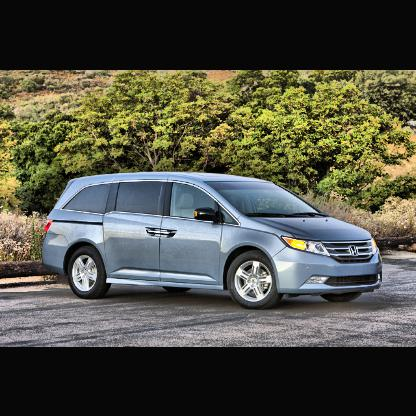Honda Odyssey Minivan 2012: (41, 167, 388, 315)
